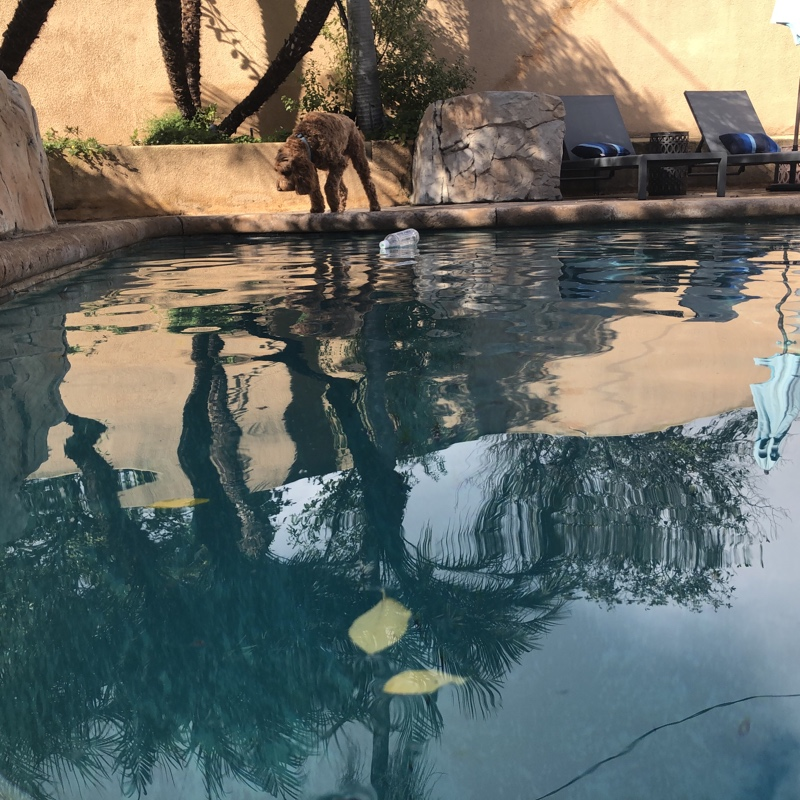Plastic Bottle: (376, 224, 424, 253)
